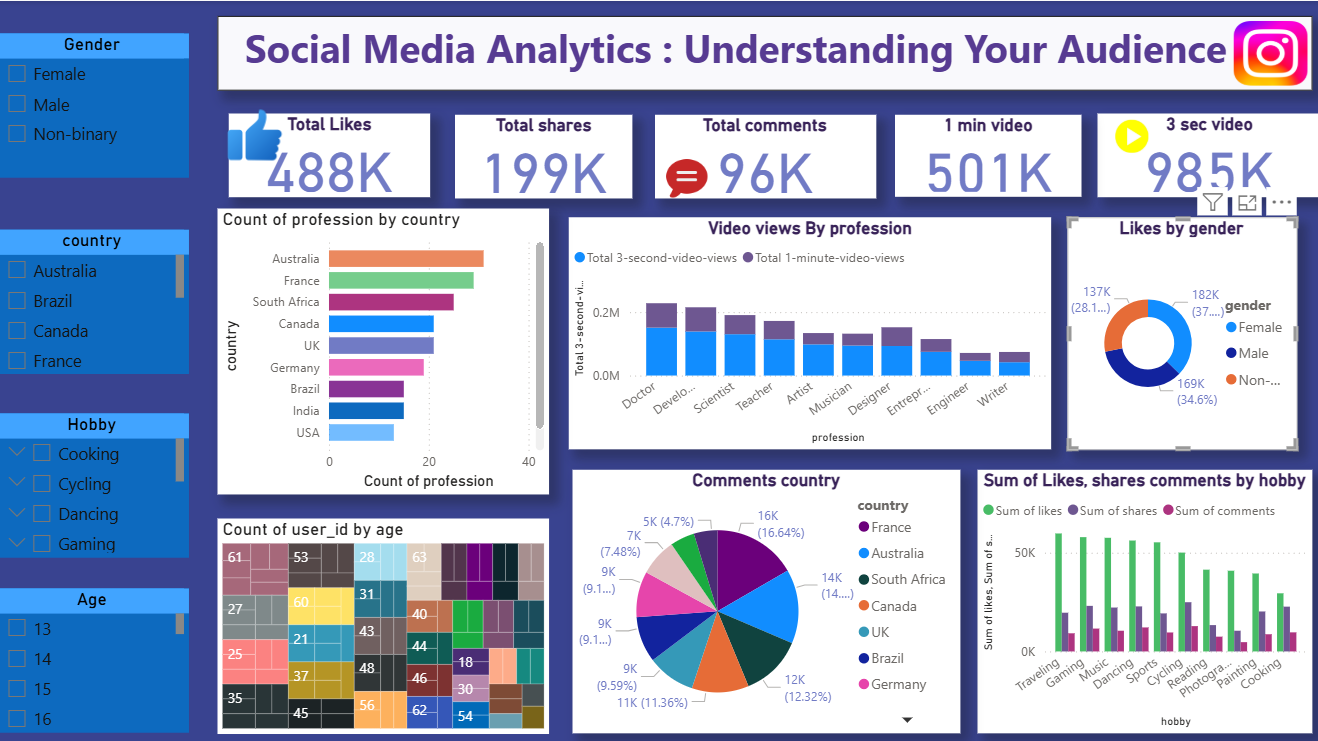

The page's visual inventory and layout, read from the dashboard file:
{"tool":"powerbi","page":{"name":"Page 1","canvas":[1280,720],"ordinal":0},"visuals":[{"type":"textbox","box":[215.2,14.7,1056.5,72.1],"z":0},{"type":"image","box":[1191,14.7,80.7,72.1],"z":1000},{"type":"card","title":"Total Likes","fields":{"Values":["Sum(social_media_analysis.likes)"]},"box":[225,108.8,194.4,80.7],"z":2000},{"type":"card","title":"Total shares","fields":{"Values":["Sum(social_media_analysis.shares)"]},"box":[443.9,110.1,171.2,80.7],"z":3000},{"type":"card","title":"Total comments","fields":{"Values":["Sum(social_media_analysis.comments)"]},"box":[637.1,110.1,214,80.7],"z":4000},{"type":"card","title":"3 sec video","fields":{"Values":["Sum(social_media_analysis.3-second-video-views)"]},"box":[1063.9,108.8,216.4,80.7],"z":5000},{"type":"card","title":"1 min video","fields":{"Values":["Sum(social_media_analysis.1-minute-video-views)"]},"box":[868.2,110.1,179.8,79.5],"z":6000},{"type":"image","box":[624.9,140.6,70.9,59.9],"z":7000},{"type":"image","box":[1048,110.1,97.8,41.6],"z":8000},{"type":"image","box":[215.2,94.2,72.1,70.9],"z":9000},{"type":"clusteredColumnChart","title":"Sum of Likes, shares comments by hobby","fields":{"Category":["social_media_analysis.hobby"],"Y":["Sum(social_media_analysis.likes)","Sum(social_media_analysis.shares)","Sum(social_media_analysis.comments)"]},"box":[947.7,452.4,322.8,254.3],"z":10000},{"type":"columnChart","title":"Video views By profession","fields":{"Category":["social_media_analysis.profession"],"Y":["Sum(social_media_analysis.3-second-video-views)","Sum(social_media_analysis.1-minute-video-views)"]},"box":[553.9,209.1,465.9,223.8],"z":11000},{"type":"donutChart","title":"Likes by gender","fields":{"Category":["social_media_analysis.gender"],"Y":["Sum(social_media_analysis.likes)"]},"box":[1035.1,208.7,222,224.4],"z":12000},{"type":"pieChart","title":" Comments country","fields":{"Y":["Sum(social_media_analysis.comments)"],"Category":["social_media_analysis.country"]},"box":[557.6,452.4,374.2,254.3],"z":13000},{"type":"treemap","title":"Count of user_id by age ","fields":{"Group":["social_media_analysis.age"],"Details":["social_media_analysis.user_id"],"Values":["CountNonNull(social_media_analysis.user_id)"]},"box":[215.2,498.9,320.4,207.9],"z":14000},{"type":"barChart","fields":{"Y":["CountNonNull(social_media_analysis.profession)"],"Category":["social_media_analysis.country"]},"box":[215.2,200.5,320.4,276.4],"z":15000},{"type":"slicer","title":"Age","fields":{"Values":["social_media_analysis.age"]},"box":[0,567.4,187.1,139.4],"z":16000},{"type":"slicer","title":"Gender","fields":{"Values":["social_media_analysis.gender"]},"box":[0,31.8,187.1,139.4],"z":17000},{"type":"slicer","title":"country","fields":{"Values":["social_media_analysis.country"]},"box":[0,221.3,187.1,139.4],"z":18000},{"type":"slicer","title":"Hobby","fields":{"Values":["social_media_analysis.hobby","social_media_analysis.gender"]},"box":[0,398.1,187,139.9],"z":19000}]}

Visuals, with their boxes in screenshot pixels (x1, y1, x2, y2), scaled from the page's 1280x720 canvas onto the 1318x741 screenshot:
textbox: locate(222, 15, 1309, 89)
image: locate(1226, 15, 1309, 89)
"Total Likes" card: locate(232, 112, 432, 195)
"Total shares" card: locate(457, 113, 633, 196)
"Total comments" card: locate(656, 113, 876, 196)
"3 sec video" card: locate(1095, 112, 1317, 195)
"1 min video" card: locate(894, 113, 1079, 195)
image: locate(643, 145, 716, 206)
image: locate(1079, 113, 1180, 156)
image: locate(222, 97, 296, 170)
"Sum of Likes, shares comments by hobby" clusteredColumnChart: locate(976, 466, 1308, 727)
"Video views By profession" columnChart: locate(570, 215, 1050, 446)
"Likes by gender" donutChart: locate(1066, 215, 1294, 446)
" Comments country" pieChart: locate(574, 466, 959, 727)
"Count of user_id by age " treemap: locate(222, 513, 552, 727)
barChart - CountNonNull(social_media_analysis.profession) x social_media_analysis.country: locate(222, 206, 552, 491)
"Age" slicer: locate(0, 584, 193, 727)
"Gender" slicer: locate(0, 33, 193, 176)
"country" slicer: locate(0, 228, 193, 371)
"Hobby" slicer: locate(0, 410, 193, 554)
